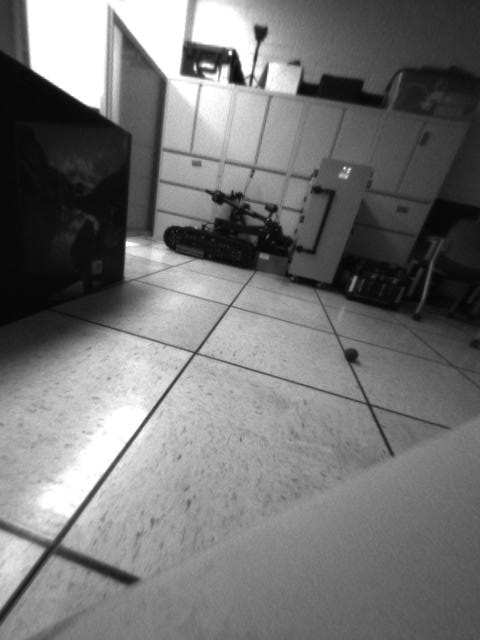dogtoy: (340, 343, 366, 369)
